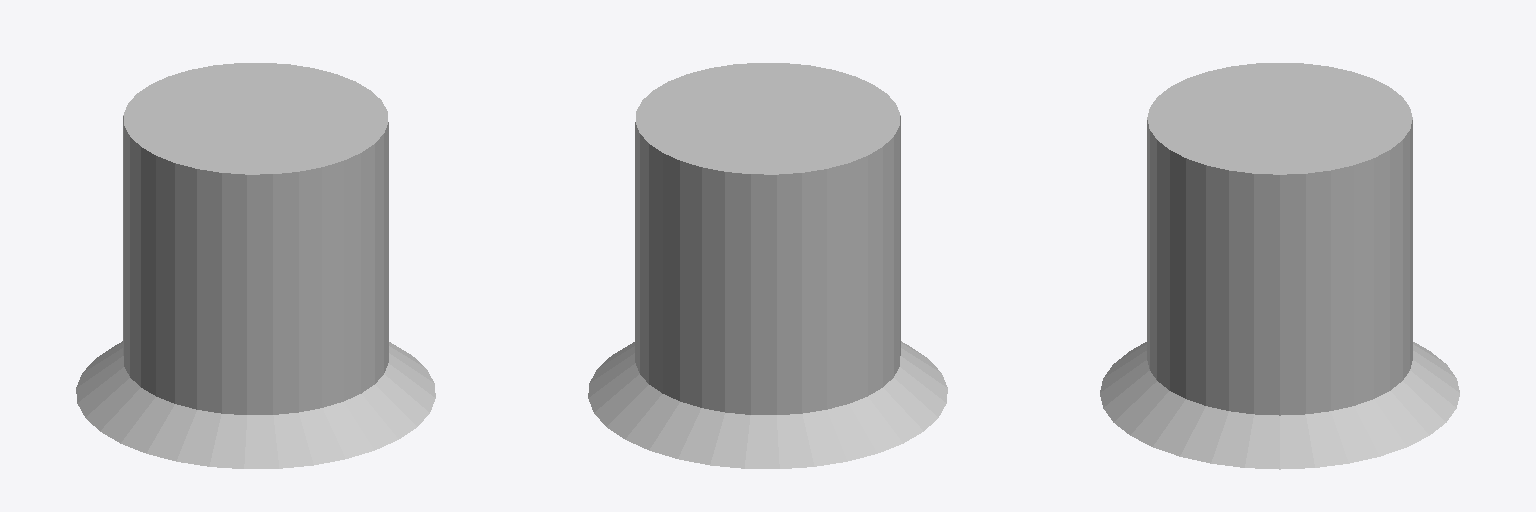
Rendered from Simple Hat.obj.
3 renders of one model, left to right at view 1: azimuth 30°, elevation 25°; view 2: azimuth 150°, elevation 25°; view 3: azimuth 270°, elevation 25°, orthographic.
Visible parts, largest first — view 1: Cylinder; view 2: Cylinder; view 3: Cylinder.
Boxes of the visible parts, box(x1,y1,x2,y2) form: Cylinder: box(76, 63, 435, 468); Cylinder: box(588, 63, 947, 468); Cylinder: box(1100, 63, 1459, 469).
Size of the model in its own units: 2.71 by 2.28 by 2.71.